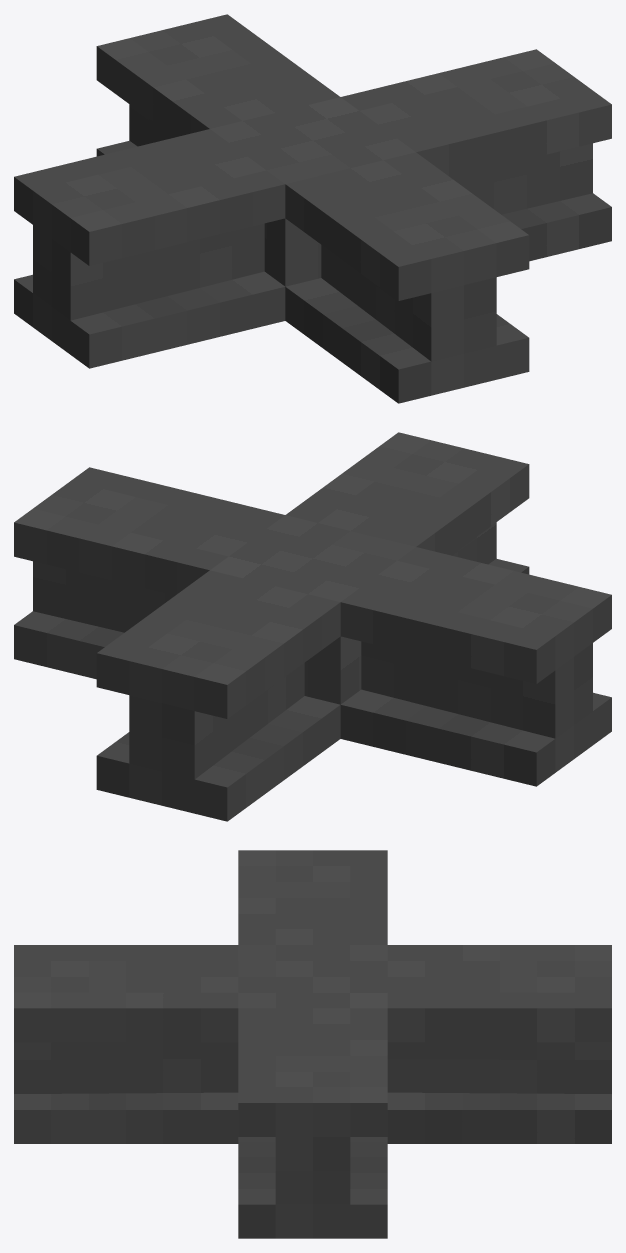
File: girder.obj
3 views of the same model, one above another, from view 1: azimuth 30°, elevation 25°; view 2: azimuth 150°, elevation 25°; view 3: azimuth 270°, elevation 25° (orthographic).
Parts seen in each view (by area): view 1: Left, Bottom, Right, Top, Core; view 2: Left, Top, Right, Bottom, Core; view 3: Bottom, Top, Right, Left, Core.
Boxes of the visible parts, x1,y1,x2,y2 form: Left: (14,129,285,368); Bottom: (285,152,529,403); Right: (341,49,611,261); Top: (96,14,339,156); Core: (210,97,415,286); Left: (340,547,611,786); Top: (96,570,340,821); Right: (14,467,284,679); Bottom: (286,432,529,574); Core: (210,515,415,704); Bottom: (14,945,238,1143); Top: (387,945,611,1143); Right: (238,1008,387,1238); Left: (238,850,387,944); Core: (238,945,387,1008).
Bounding box in the file's own units: 1 × 0.25 × 1.
1 material, 1 textured.
